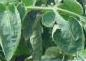Tomato mold leaf: (48, 4, 83, 57), (0, 2, 22, 61)
